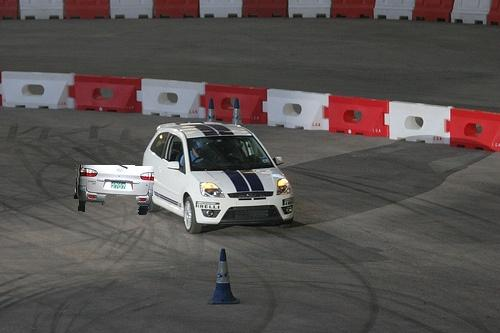tampered: (75, 166, 154, 215)
